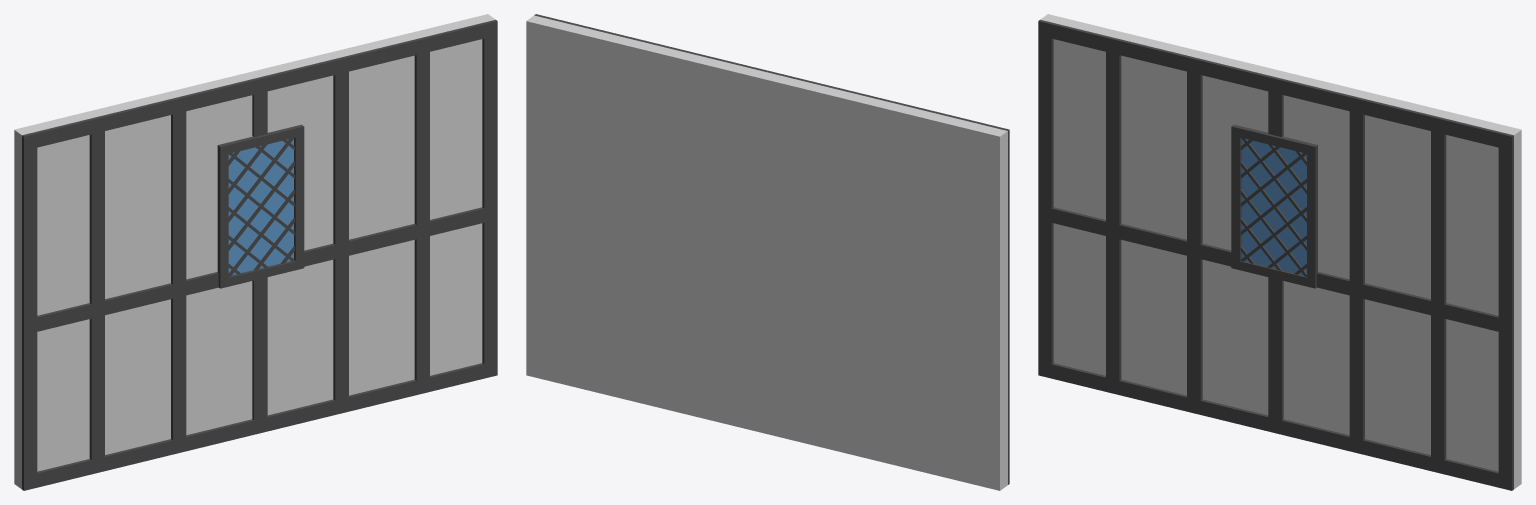
Rendered from Wall-With-Windows.fbx.
The picture shows the model from 3 angles, left to right: view 1: azimuth 30°, elevation 25°; view 2: azimuth 150°, elevation 25°; view 3: azimuth 330°, elevation 25°; orthographic projection.
Parts seen in each view (by area): view 1: pasted__group7_pasted__group2_pasted__pasted__group1_pasted_; view 2: pasted__group7_pasted__group2_pasted__pasted__group1_pasted_; view 3: pasted__group7_pasted__group2_pasted__pasted__group1_pasted_.
Part boxes in pixels (x1,y1,x2,y2): pasted__group7_pasted__group2_pasted__pasted__group1_pasted_: (14,14,497,490); pasted__group7_pasted__group2_pasted__pasted__group1_pasted_: (526,14,1009,490); pasted__group7_pasted__group2_pasted__pasted__group1_pasted_: (1038,14,1521,490).
Bounding box in the file's own units: 350 × 250 × 14.52.
